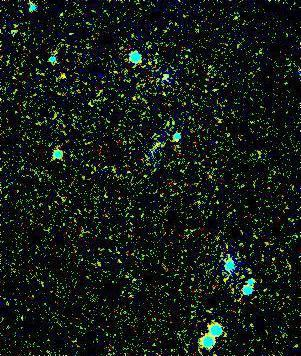star: (52, 58, 82, 88)
